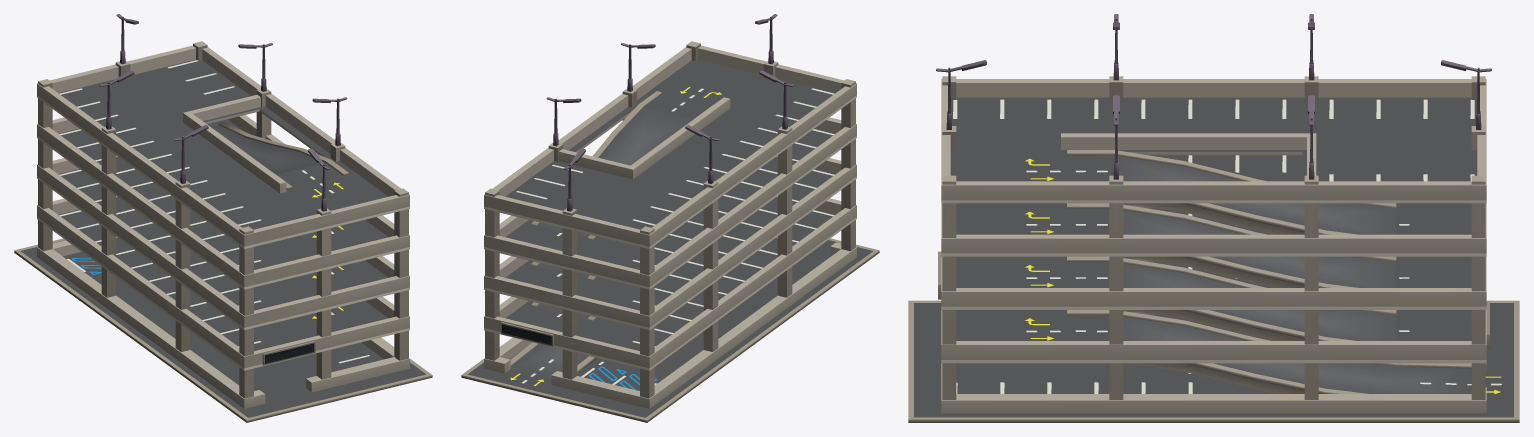
File: Parking_2A.fbx
3 views of the same model, side by side, from view 1: azimuth 30°, elevation 25°; view 2: azimuth 150°, elevation 25°; view 3: azimuth 270°, elevation 25° (orthographic). The views are drawn at different scales.
Parts seen in each view (by area): view 1: Parking_2A; view 2: Parking_2A; view 3: Parking_2A.
Part boxes in pixels (box(x1,y1,x2,y2)): Parking_2A: box(14, 14, 432, 422); Parking_2A: box(461, 14, 879, 422); Parking_2A: box(908, 14, 1519, 422).
Bounding box in the file's own units: 732 × 864 × 1585.
